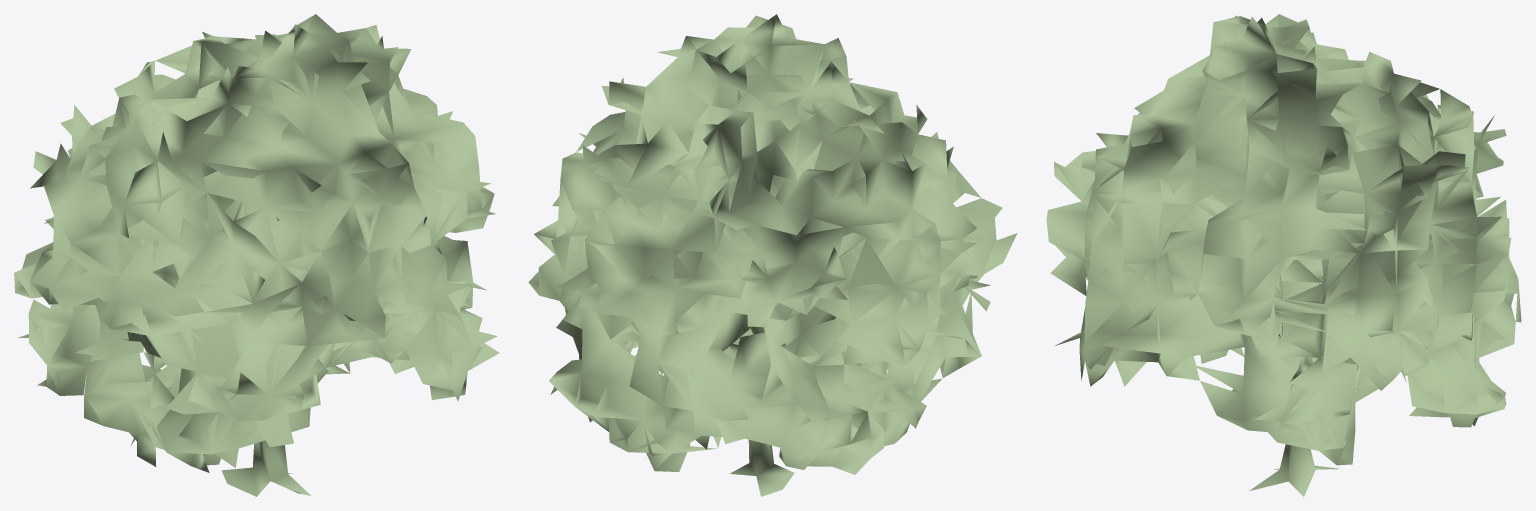
File: mango-far.glb
The picture shows the model from 3 angles, left to right: view 1: azimuth 30°, elevation 25°; view 2: azimuth 150°, elevation 25°; view 3: azimuth 270°, elevation 25°; orthographic projection. The views are drawn at different scales.
Bounding box in the file's own units: 6.1 × 6.8 × 6.24.
